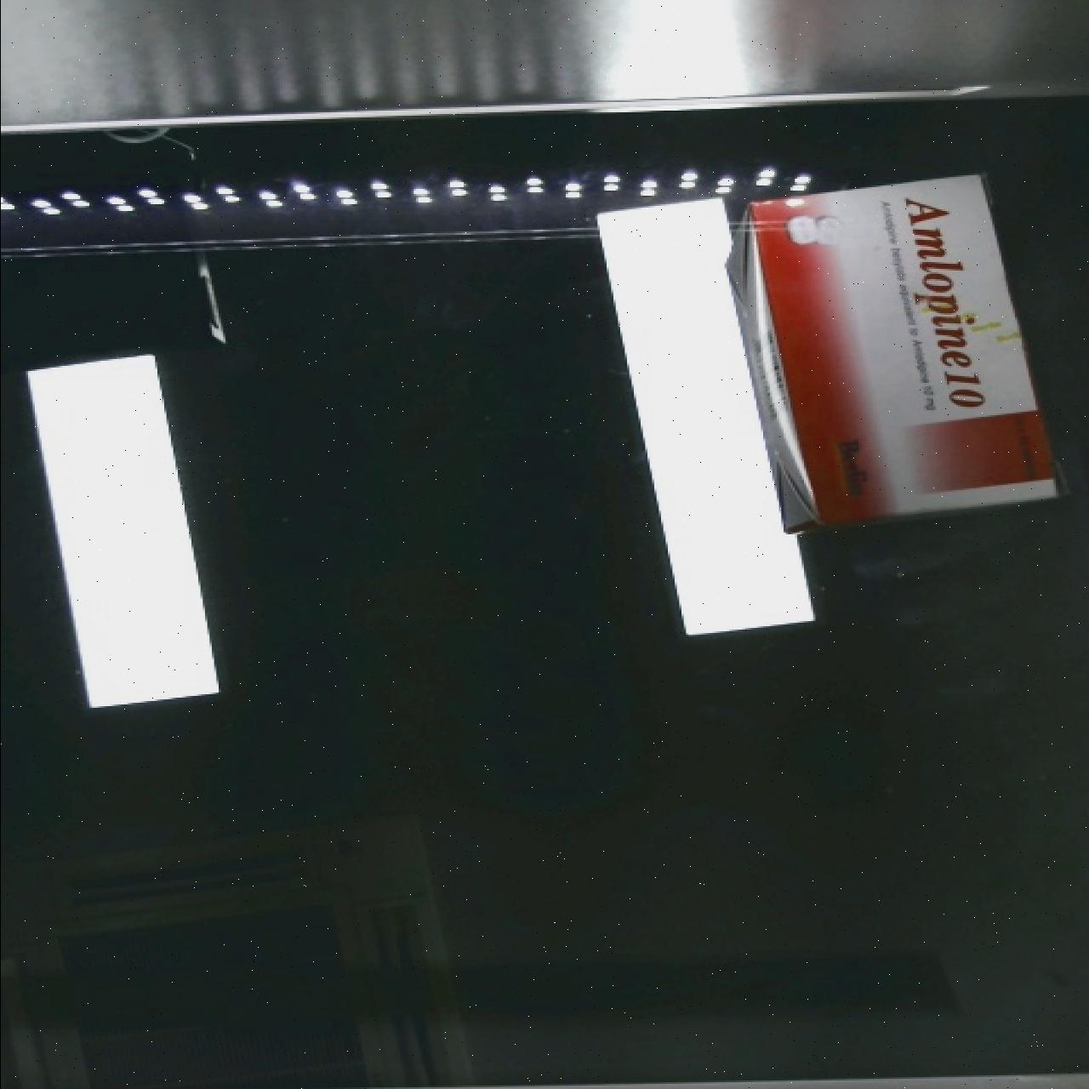medicine_label_obb: (878, 168, 1009, 428)
